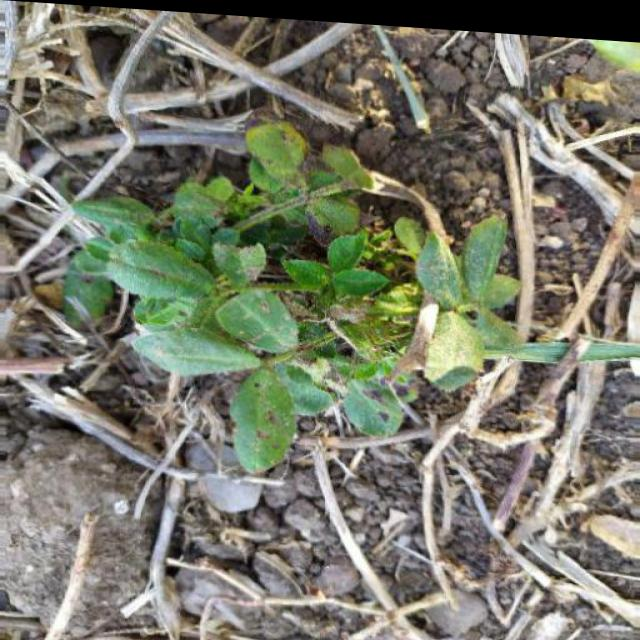weed: (65, 100, 529, 470)
